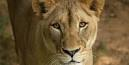lion: (8, 1, 106, 65)
